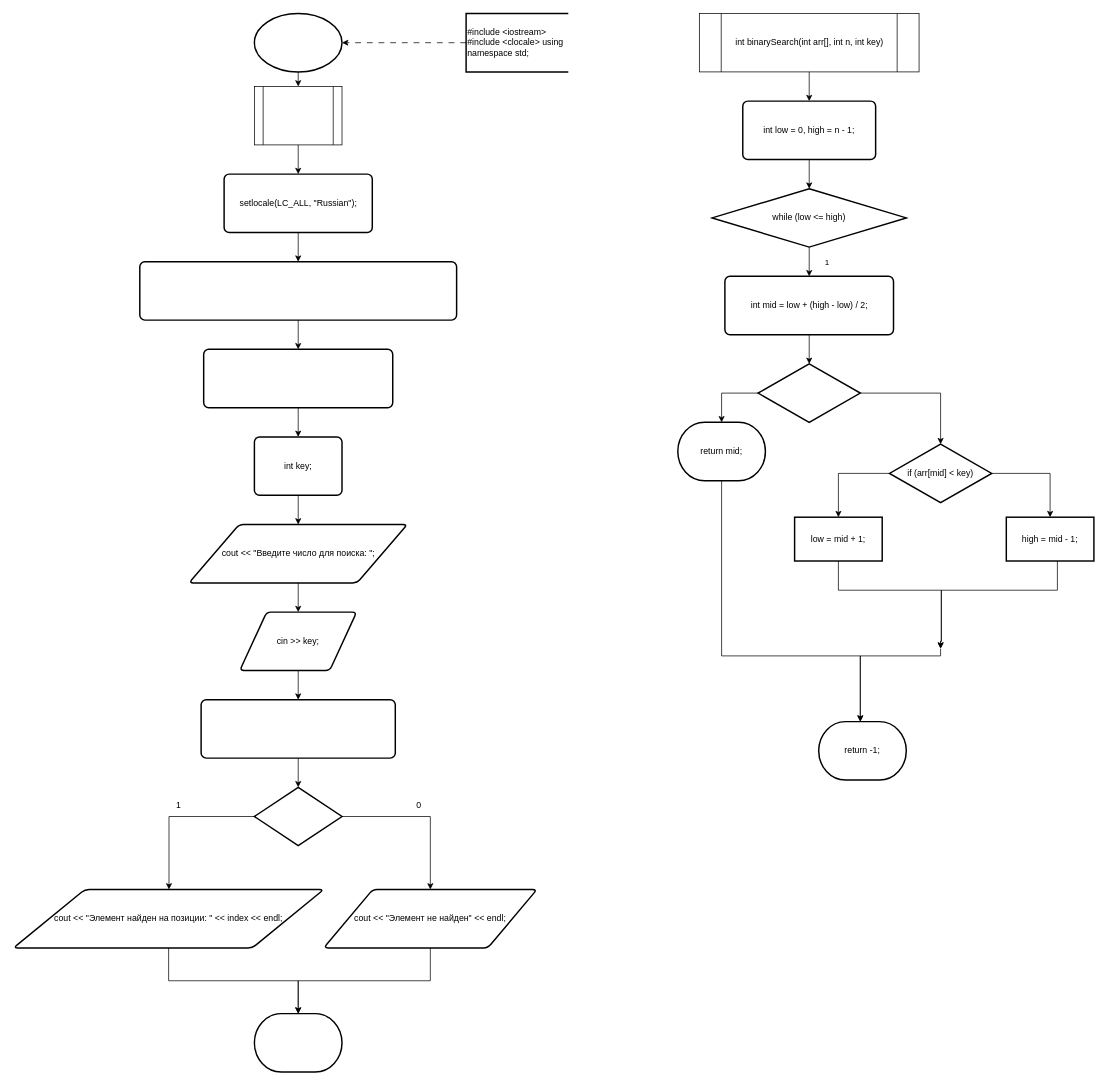
Image size: 1107x1085. Some labels were removed from this diagram. Each missing label, with the centre of its shape:
"if (arr[mid] == key)" belongs at pixel 809 393.
"if (index != -1)" belongs at pixel 297 816.
"int arr[] = {2, 4, 6, 8, 10, 12}; // Массив уже отсортирован;" belongs at pixel 298 290.
"int index = binarySearch(arr, n, key);" belongs at pixel 298 728.
"int main()" belongs at pixel 298 115.
"int n = sizeof(arr) / sizeof(arr[0]);" belongs at pixel 298 378.
"return 0;" belongs at pixel 297 1042.
"Начало" belongs at pixel 297 42.
